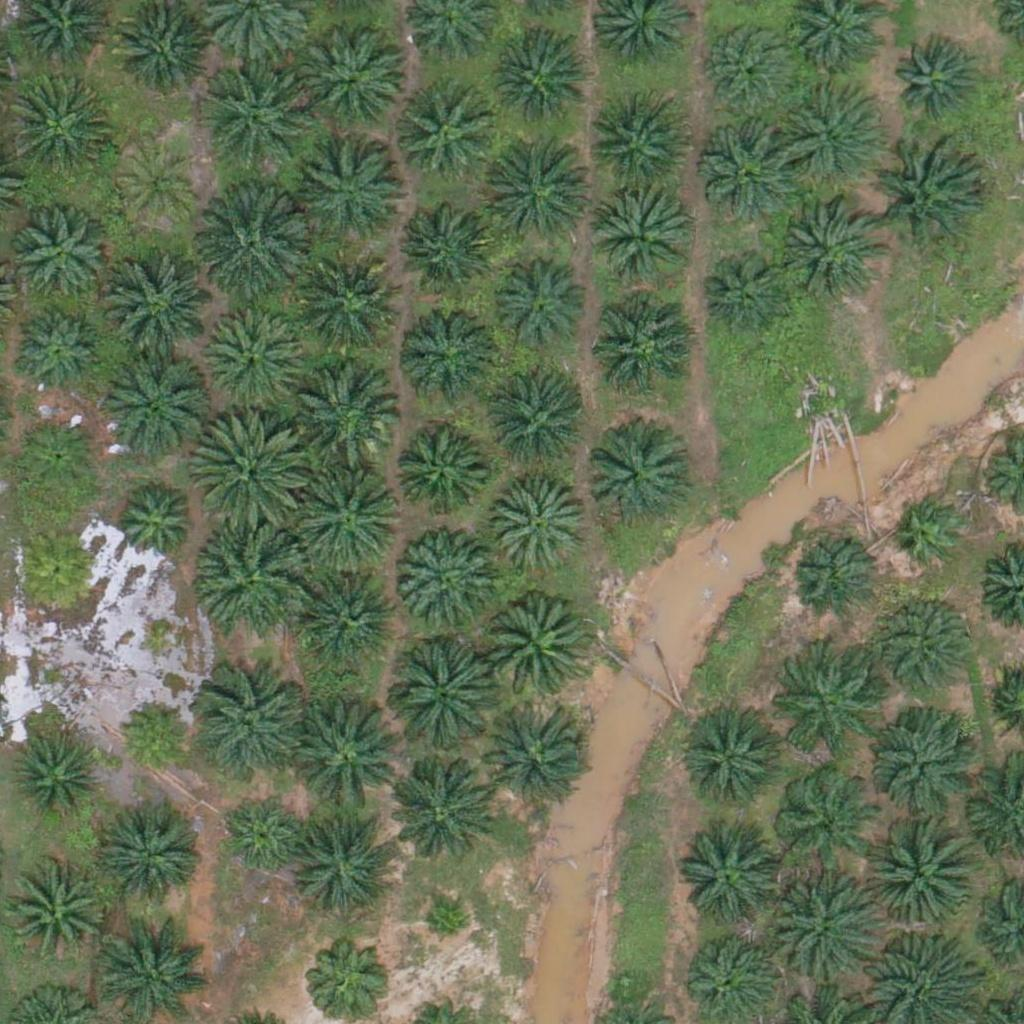Kelapa_Sawit: (195, 63, 308, 177), (866, 814, 979, 927), (867, 699, 980, 812), (764, 874, 877, 987), (383, 639, 496, 752), (380, 756, 493, 869), (198, 520, 311, 633), (195, 668, 308, 781), (868, 139, 981, 252), (288, 356, 401, 469), (195, 189, 308, 302), (287, 698, 399, 812), (291, 457, 403, 571), (193, 409, 305, 523), (479, 591, 591, 704), (476, 699, 588, 812), (292, 808, 404, 921), (771, 76, 883, 189), (483, 134, 595, 247), (4, 72, 116, 185), (102, 255, 214, 368), (97, 348, 209, 461), (5, 863, 105, 964), (102, 802, 202, 903), (768, 656, 868, 757), (774, 768, 874, 869), (680, 922, 780, 1023), (680, 830, 780, 931), (686, 704, 786, 805), (583, 428, 683, 529), (490, 477, 590, 578), (388, 422, 488, 523), (395, 530, 495, 631), (777, 200, 877, 301), (702, 117, 802, 218), (586, 186, 686, 287), (586, 98, 686, 199), (490, 30, 590, 131), (204, 310, 304, 411), (9, 204, 109, 305), (875, 591, 975, 691), (488, 379, 588, 479), (302, 568, 402, 668), (592, 296, 692, 396), (488, 255, 588, 355), (400, 300, 500, 400), (392, 80, 492, 180), (397, 196, 497, 296), (303, 29, 403, 129), (303, 146, 403, 246), (295, 259, 395, 359), (13, 524, 101, 613), (707, 22, 795, 111), (219, 794, 307, 882), (13, 411, 101, 499), (790, 532, 878, 620), (304, 931, 392, 1019), (114, 142, 202, 230), (15, 307, 102, 396), (12, 735, 99, 823), (109, 479, 196, 567), (894, 41, 981, 129), (703, 248, 790, 336), (116, 696, 191, 772), (893, 498, 968, 574), (421, 902, 471, 952)
